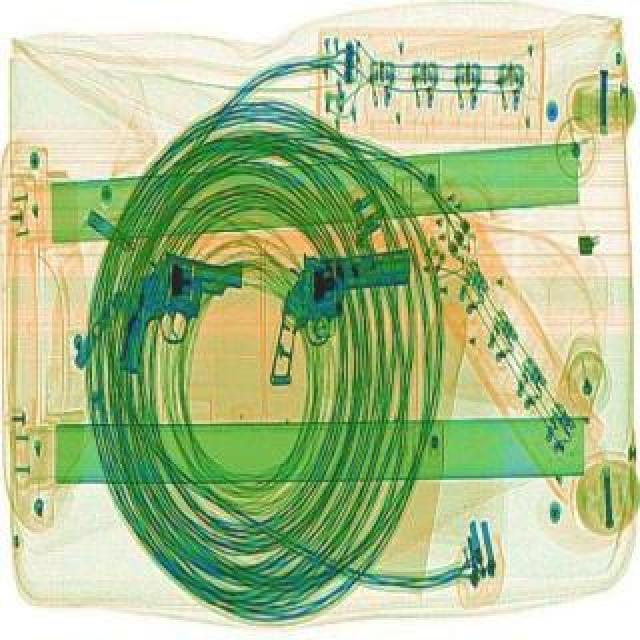gun: (248, 252, 430, 392), (110, 248, 246, 394)
